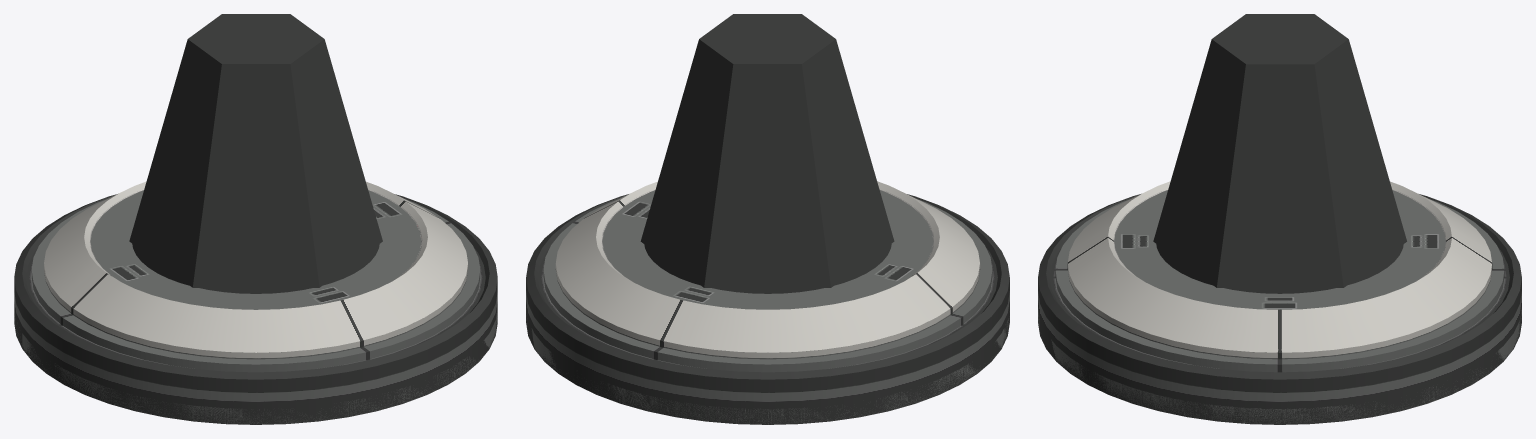
File: laser_relay.glb
3 renders of one model, left to right at view 1: azimuth 30°, elevation 25°; view 2: azimuth 150°, elevation 25°; view 3: azimuth 270°, elevation 25°, orthographic.
Visible parts, largest first — view 1: EDITOR_laserrecw; view 2: EDITOR_laserrecw; view 3: EDITOR_laserrecw.
Part boxes in pixels (x1,y1,x2,y2): EDITOR_laserrecw: [14, 14, 497, 424]; EDITOR_laserrecw: [526, 14, 1009, 424]; EDITOR_laserrecw: [1038, 14, 1521, 424].
Bounding box in the file's own units: 0.6861 × 0.4439 × 0.6861.
Materials: 1 (1 with a texture image).
